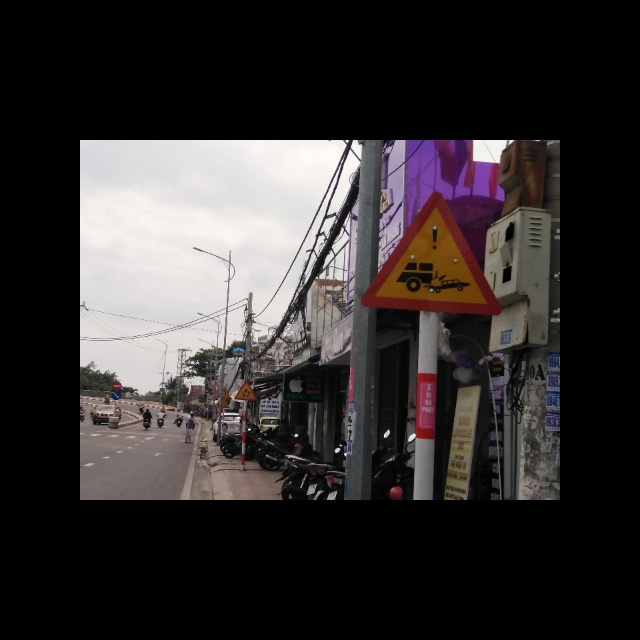Đoạn đường hay xảy ra tai nạn: (359, 189, 503, 318)
Đường đôi: (234, 379, 260, 400)
